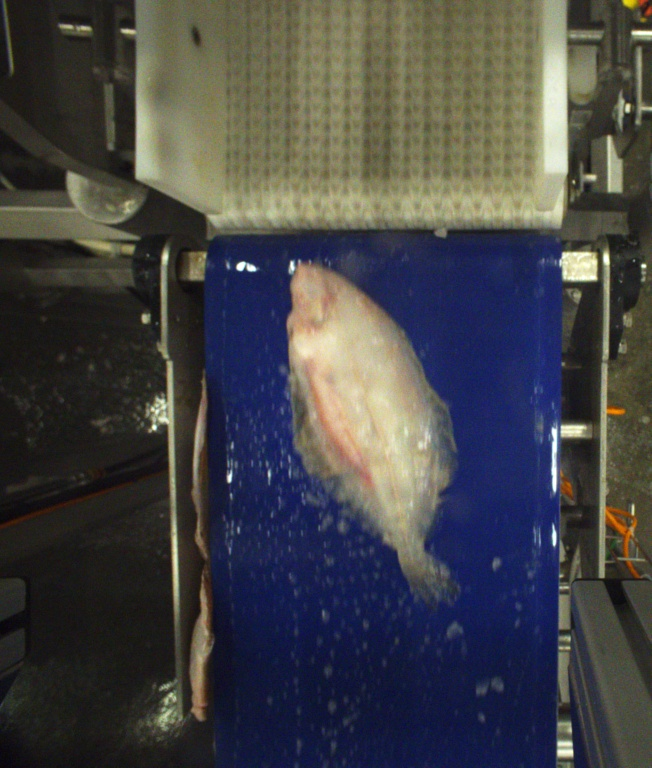WIT: (289, 265, 460, 606)
